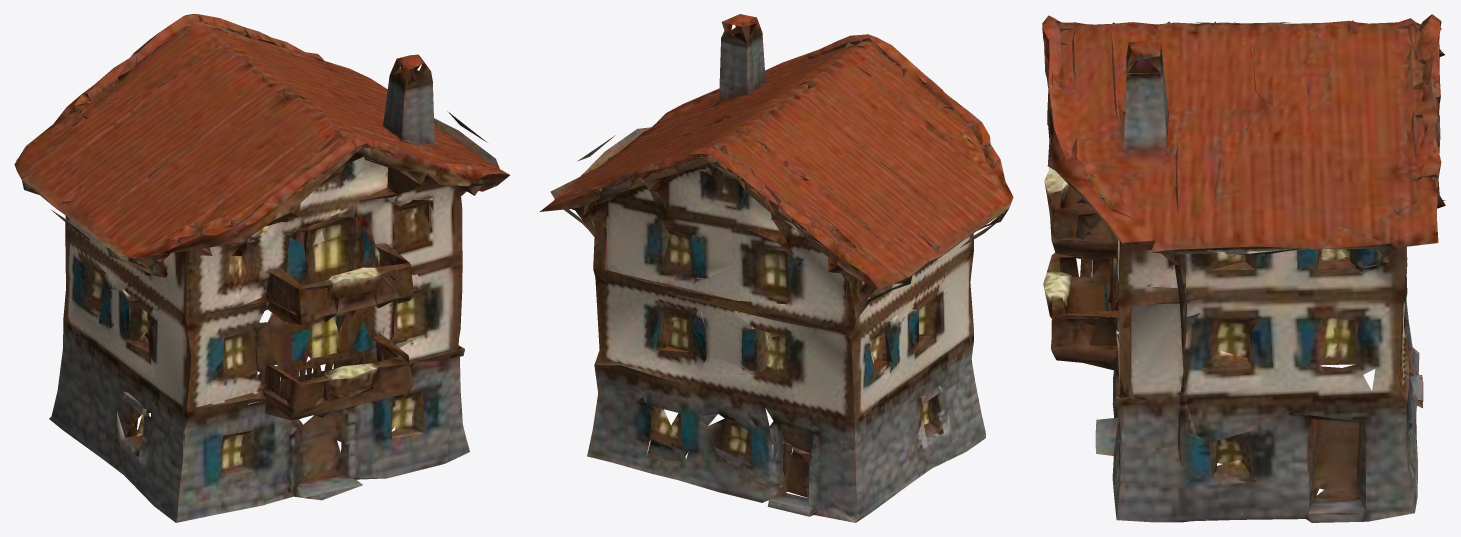
3 renders of one model, left to right at view 1: azimuth 30°, elevation 25°; view 2: azimuth 150°, elevation 25°; view 3: azimuth 270°, elevation 25°, orthographic. The views are drawn at different scales.
Parts seen in each view (by area): view 1: alpine__villa_3__neural_lod; view 2: alpine__villa_3__neural_lod; view 3: alpine__villa_3__neural_lod.
Part boxes in pixels (x1,y1,x2,y2): alpine__villa_3__neural_lod: (14, 14, 509, 522); alpine__villa_3__neural_lod: (540, 14, 1013, 522); alpine__villa_3__neural_lod: (1042, 14, 1445, 522).
Bounding box in the file's own units: 0.9921 × 0.9449 × 0.7532.
Materials: 1 (1 with a texture image).
